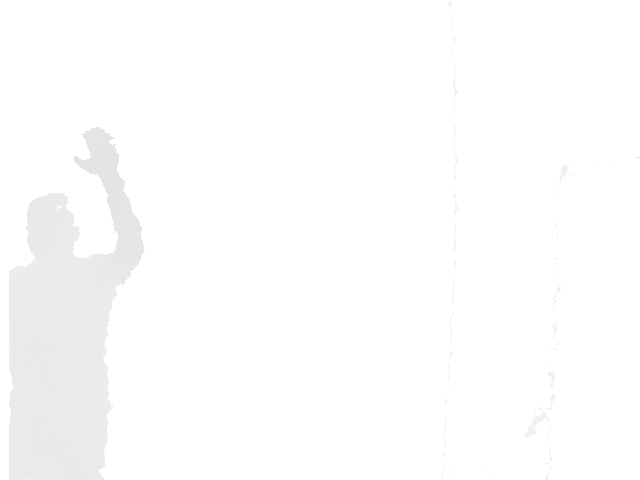hand: (73, 126, 124, 176)
head: (24, 191, 79, 255)
person: (10, 126, 147, 479)
